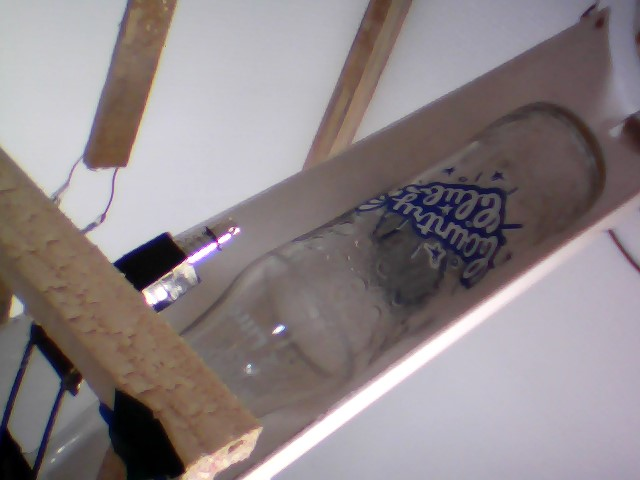vidrio: (171, 93, 607, 410)
